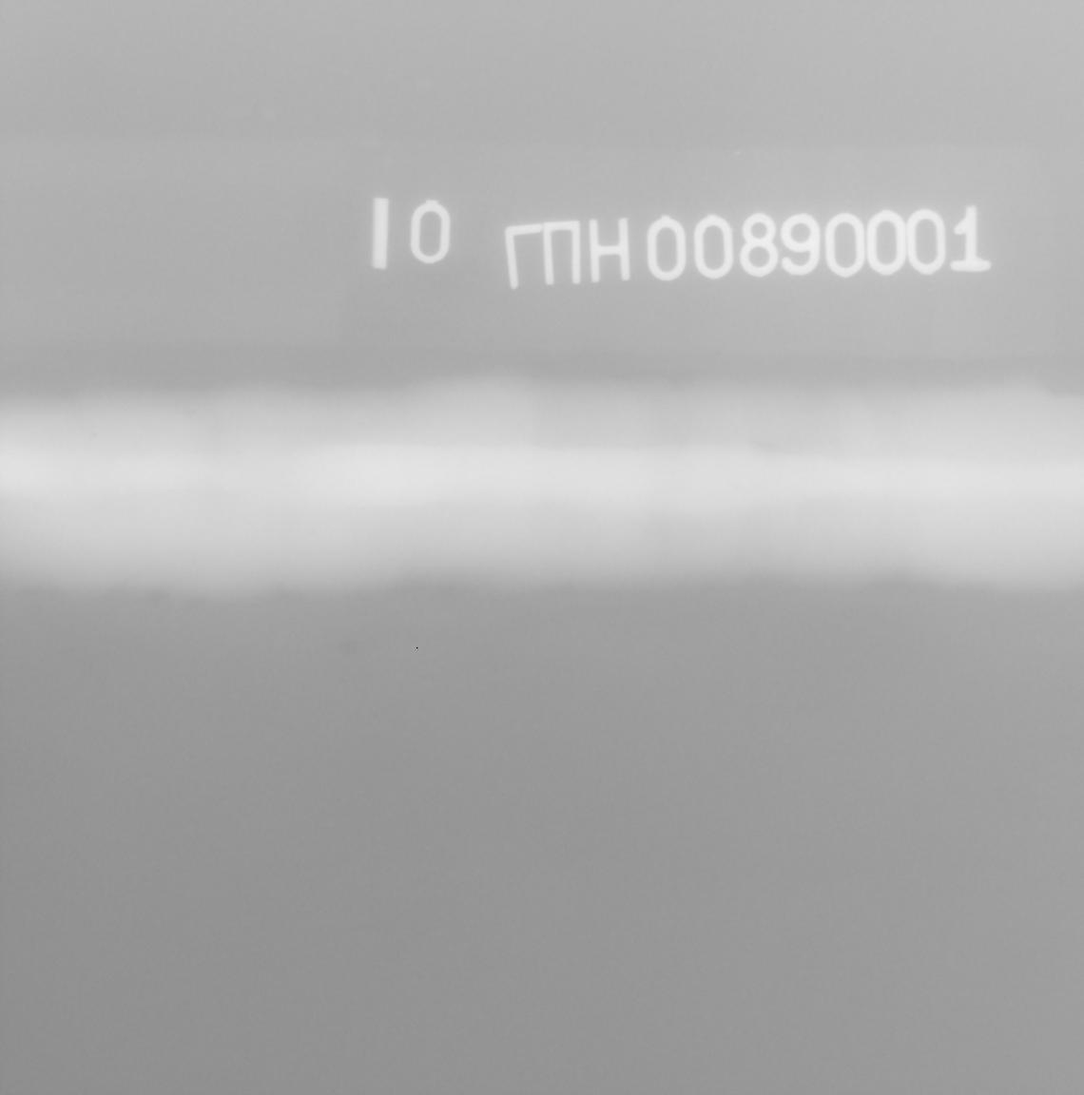Pore/Porosity: (184, 409, 195, 418), (90, 431, 98, 439), (734, 486, 739, 491)
